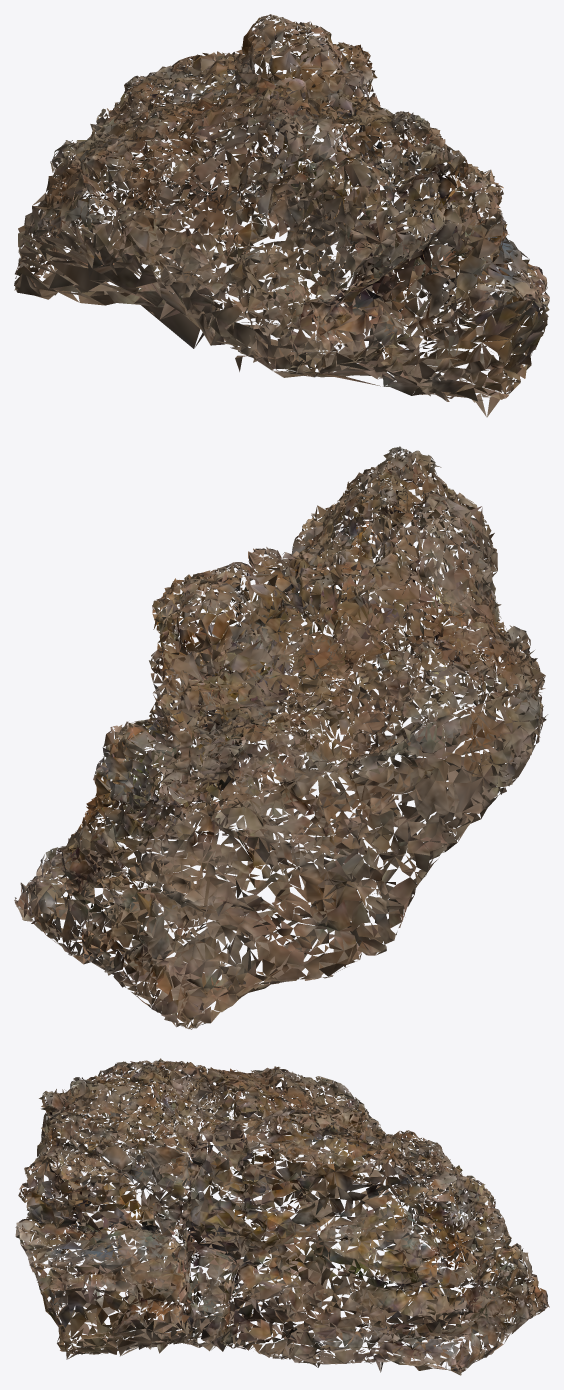
Rendered from boulder_01.glb.
3 views of the same model, one above another, from view 1: azimuth 30°, elevation 25°; view 2: azimuth 150°, elevation 25°; view 3: azimuth 270°, elevation 25° (orthographic). The views are drawn at different scales.
Visible parts, largest first — view 1: boulder_01; view 2: boulder_01; view 3: boulder_01.
Boxes of the visible parts, x1=… form: boulder_01: x1=14, y1=14, x2=549, y2=417; boulder_01: x1=14, y1=446, x2=547, y2=1029; boulder_01: x1=15, y1=1058, x2=549, y2=1375.
Bounding box in the file's own units: 1.28 × 1.01 × 1.84.
Materials: 1 (1 with a texture image).
